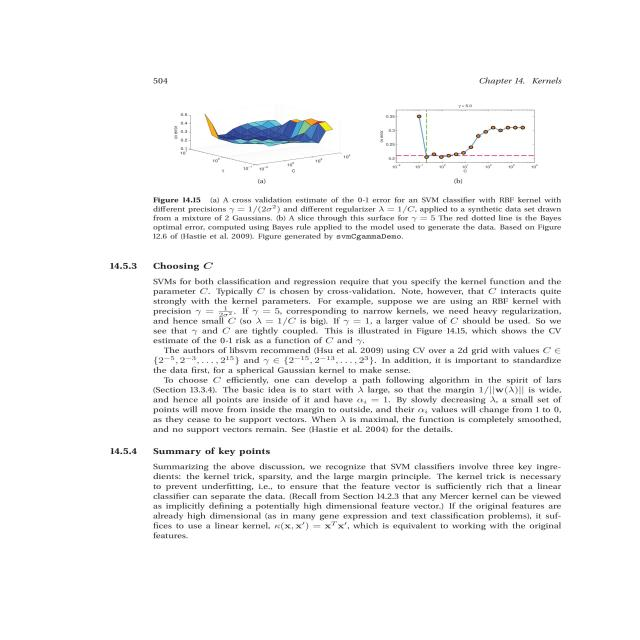diagram: (89, 93, 625, 252)
